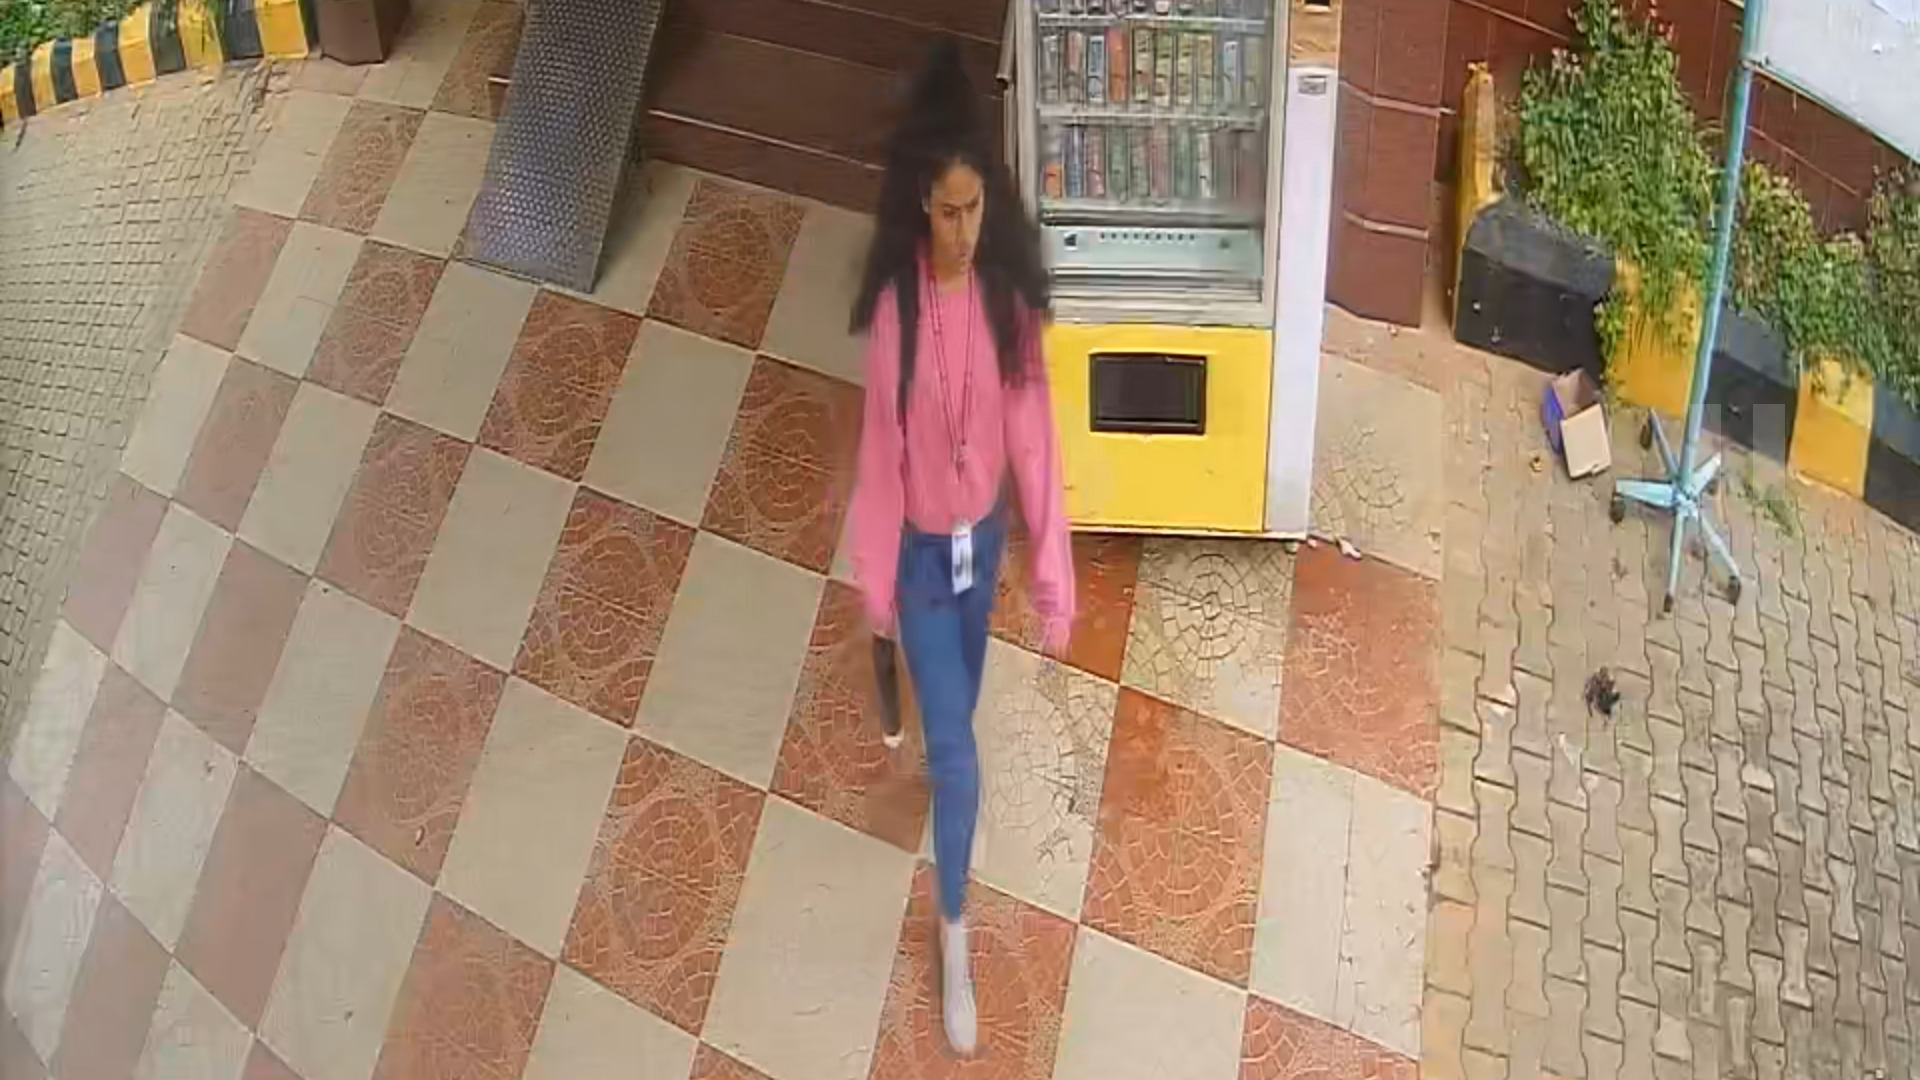not intruder: (847, 26, 1083, 1054)
